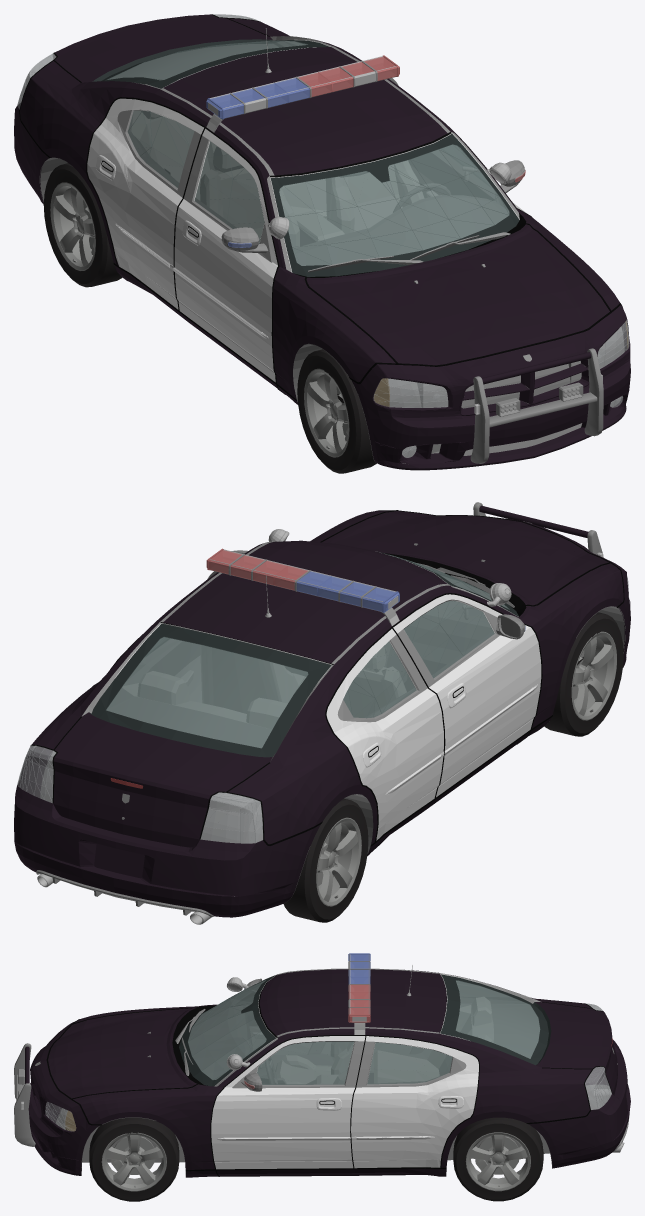
File: copsCar.fbx
3 renders of one model, top to bottom at view 1: azimuth 30°, elevation 25°; view 2: azimuth 150°, elevation 25°; view 3: azimuth 270°, elevation 25°, orthographic. The views are drawn at different scales.
Parts seen in each view (by area): view 1: Object.003, Object.004, Object.002, Object.025, Object.001, Object.034; view 2: Object.003, Object.004, Object.001, Object.002, Object.025, Object.034; view 3: Object.003, Object.004, Object.025, Object.002, Object.001, Object.034.
Part boxes in pixels (x1=…): Object.003: x1=14, y1=14, x2=630, y2=470; Object.004: x1=87, y1=42, x2=527, y2=382; Object.002: x1=306, y1=224, x2=609, y2=365; Object.025: x1=43, y1=163, x2=376, y2=473; Object.001: x1=53, y1=14, x2=272, y2=82; Object.034: x1=470, y1=348, x2=603, y2=463; Object.003: x1=14, y1=510, x2=630, y2=917; Object.004: x1=98, y1=550, x2=541, y2=840; Object.001: x1=52, y1=712, x2=272, y2=851; Object.002: x1=322, y1=511, x2=608, y2=605; Object.025: x1=283, y1=612, x2=623, y2=922; Object.034: x1=473, y1=502, x2=603, y2=557; Object.003: x1=28, y1=953, x2=630, y2=1177; Object.004: x1=211, y1=978, x2=508, y2=1169; Object.025: x1=89, y1=1117, x2=543, y2=1201; Object.002: x1=48, y1=1007, x2=196, y2=1098; Object.001: x1=535, y1=1002, x2=624, y2=1098; Object.034: x1=14, y1=1043, x2=35, y2=1146.
Size of the model in its own units: 6.55 by 5.58 by 16.32.
25 materials, 2 textured.
